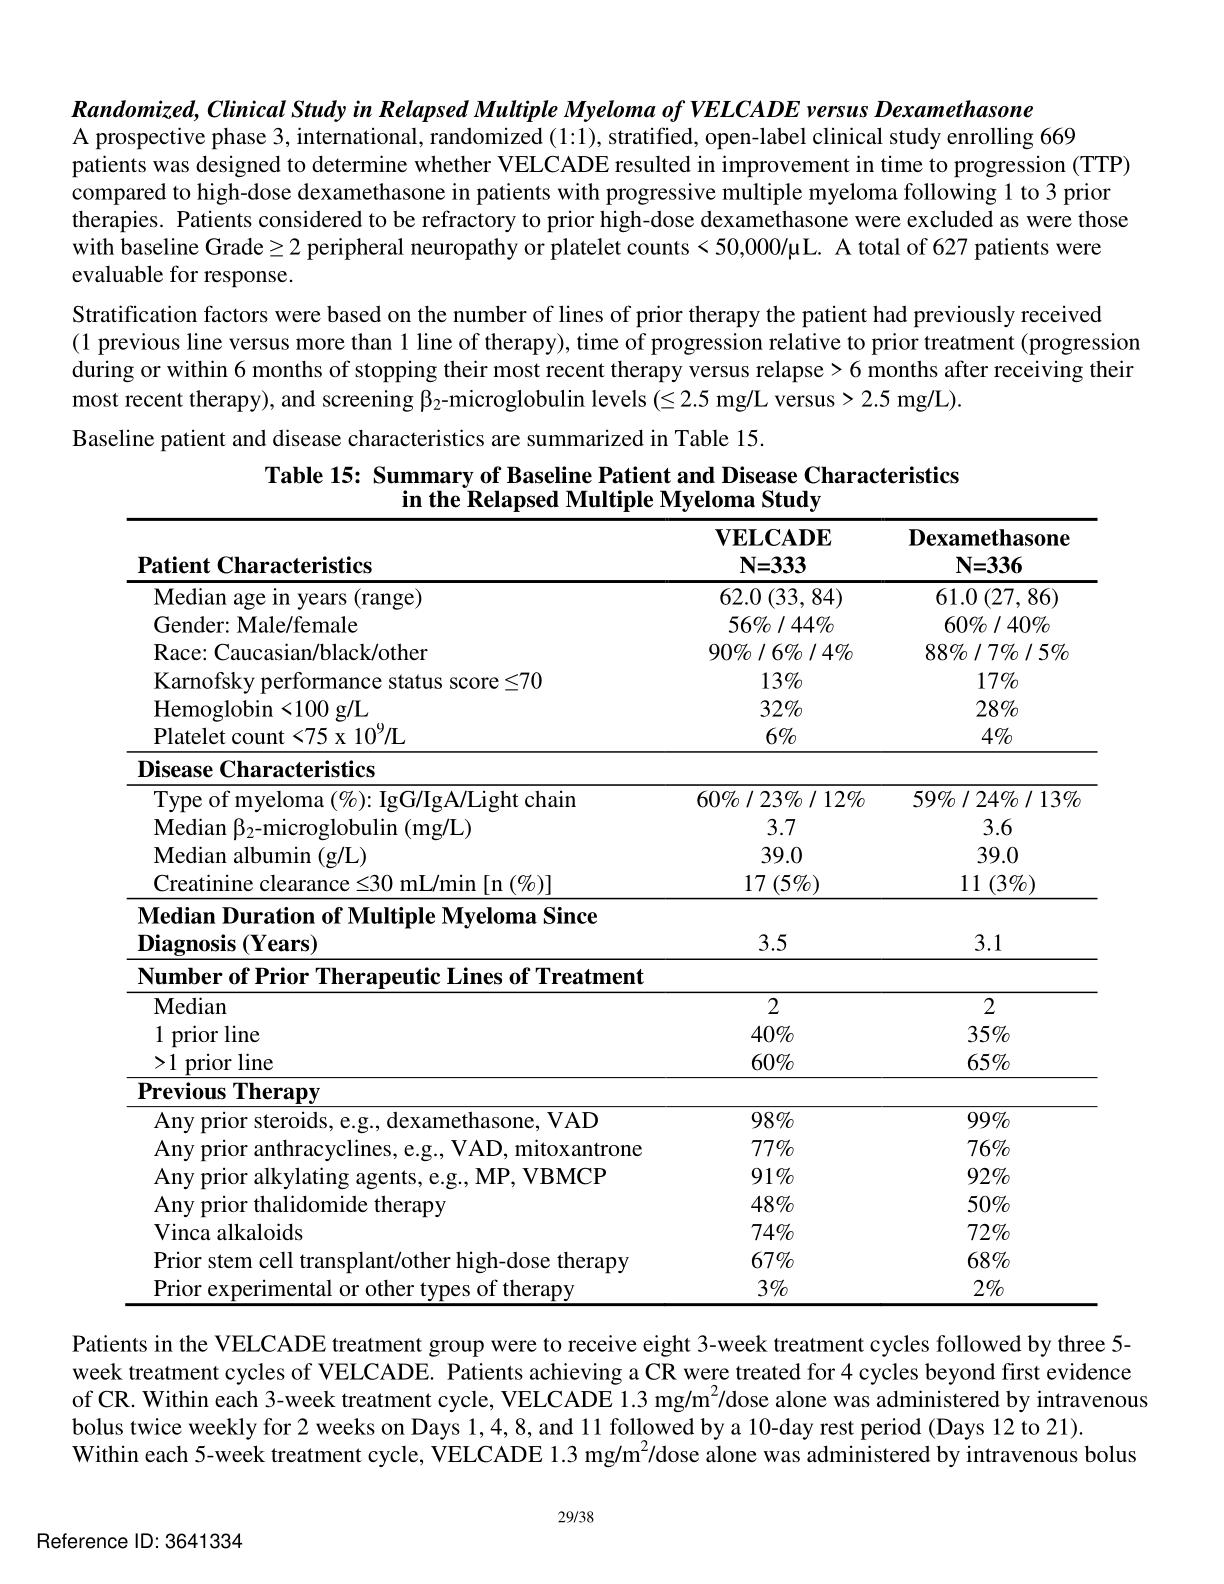partial_lined_merged_cells: (122, 517, 1101, 1308)
